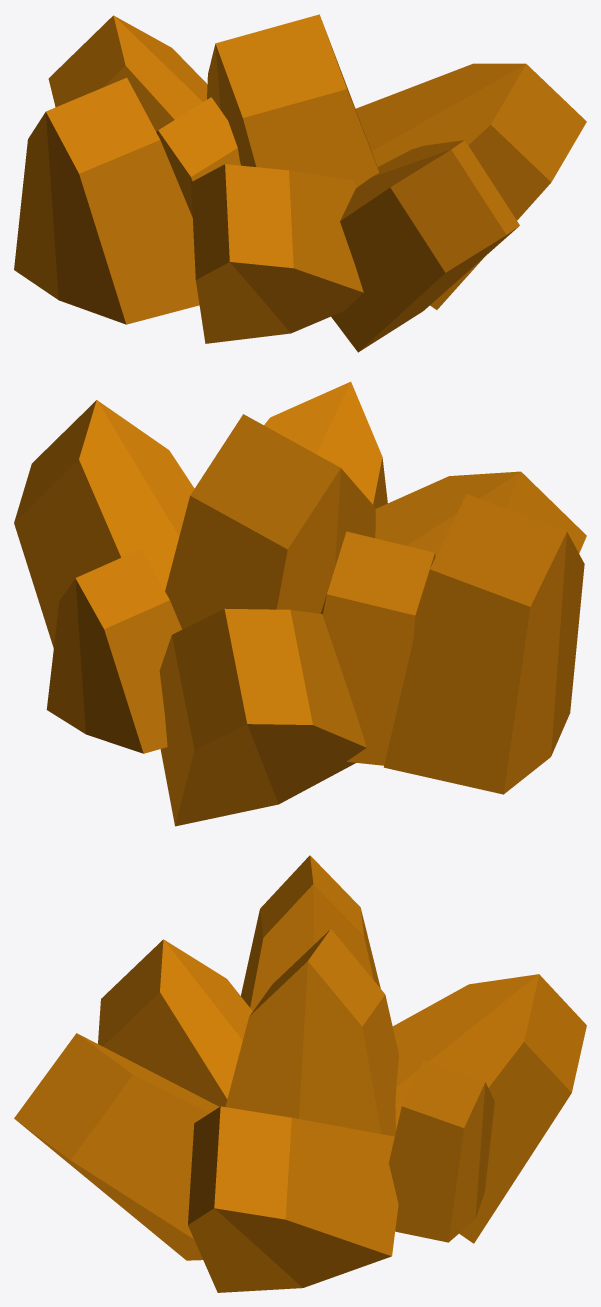
Rendered from brigesRock_Type3_04_mesh_001.fbx.
3 renders of one model, top to bottom at view 1: azimuth 30°, elevation 25°; view 2: azimuth 150°, elevation 25°; view 3: azimuth 270°, elevation 25°, orthographic. The views are drawn at different scales.
Parts seen in each view (by area): view 1: Rock Type3 04 mesh.001; view 2: Rock Type3 04 mesh.001; view 3: Rock Type3 04 mesh.001.
Part boxes in pixels (x1,y1,x2,y2): Rock Type3 04 mesh.001: [14, 14, 586, 352]; Rock Type3 04 mesh.001: [14, 381, 586, 826]; Rock Type3 04 mesh.001: [14, 855, 586, 1292].
Size of the model in its own units: 120 by 65.38 by 115.
